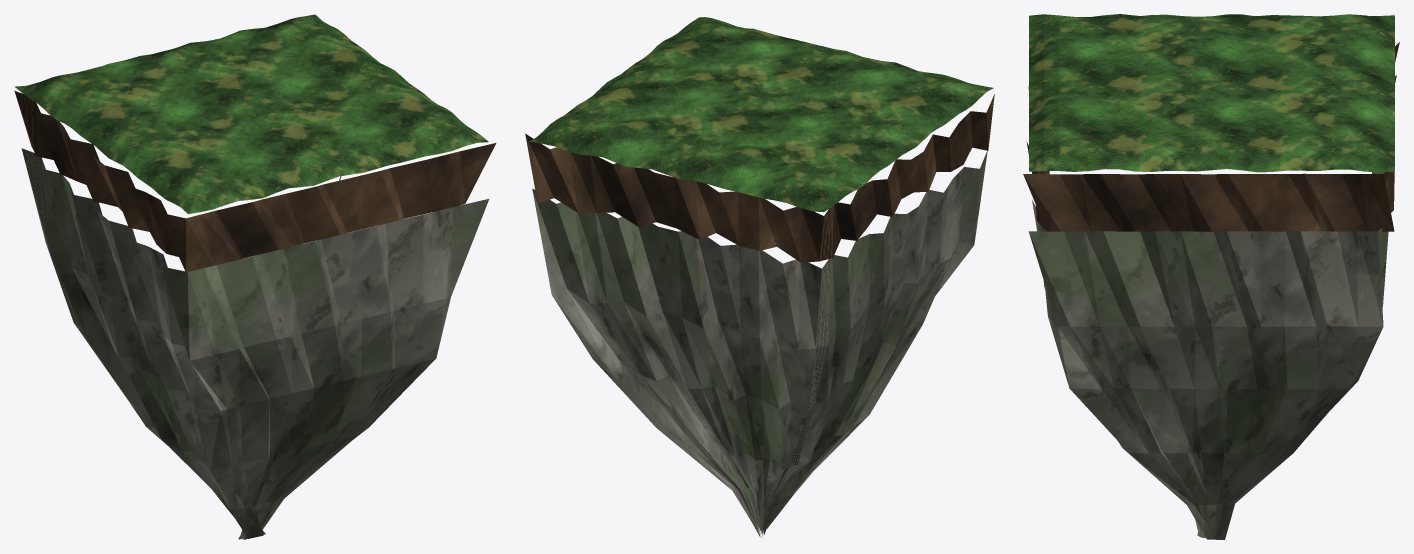
File: island_terrain.glb
3 views of the same model, side by side, from view 1: azimuth 30°, elevation 25°; view 2: azimuth 150°, elevation 25°; view 3: azimuth 270°, elevation 25° (orthographic). The views are drawn at different scales.
Visible parts, largest first — view 1: fractured rock, walkable meadow top, earth band; view 2: fractured rock, walkable meadow top, earth band; view 3: fractured rock, walkable meadow top, earth band.
Boxes of the visible parts, box(x1,y1,x2,y2) form: fractured rock: box(21, 148, 489, 539); walkable meadow top: box(15, 14, 488, 214); earth band: box(14, 90, 496, 272); fractured rock: box(532, 151, 987, 537); walkable meadow top: box(529, 17, 993, 212); earth band: box(525, 94, 994, 262); fractured rock: box(1028, 171, 1388, 539); walkable meadow top: box(1029, 14, 1394, 172); earth band: box(1023, 42, 1399, 231).
Bounding box in the file's own units: 1.07 × 1.4 × 1.03.
3 materials, 3 textured.
